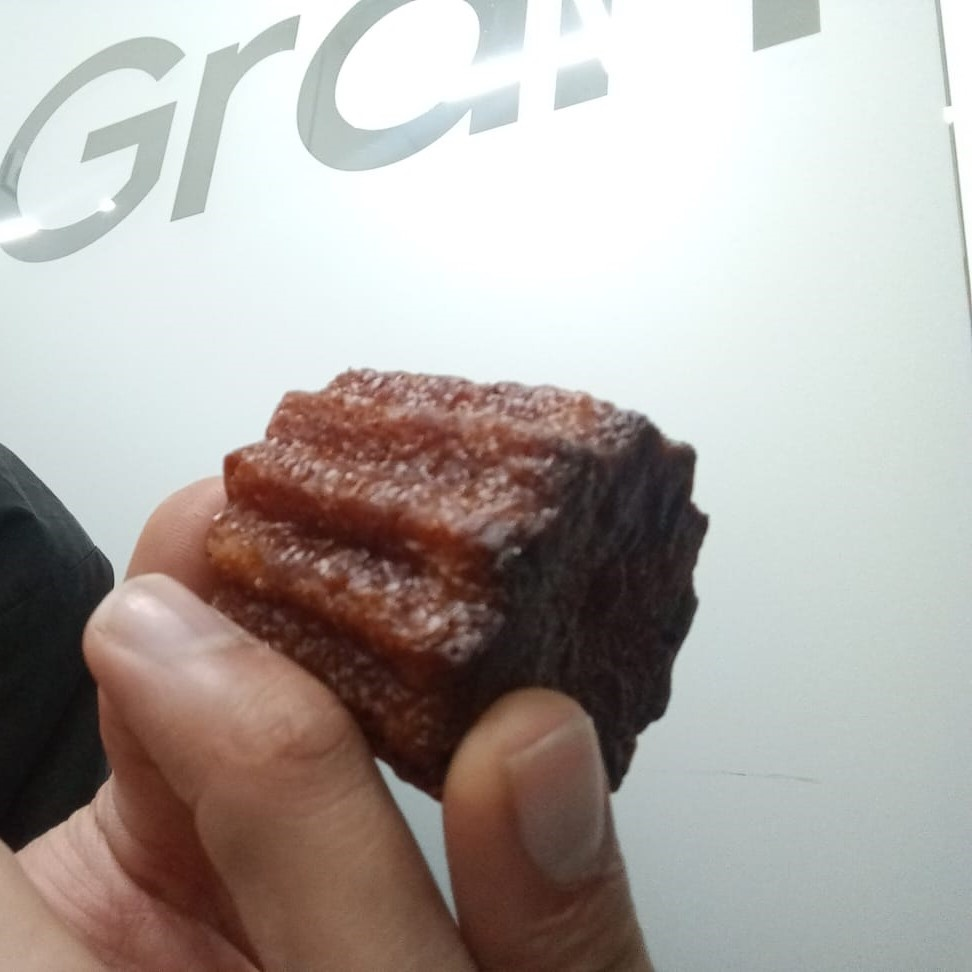Organico: (206, 363, 712, 800)
